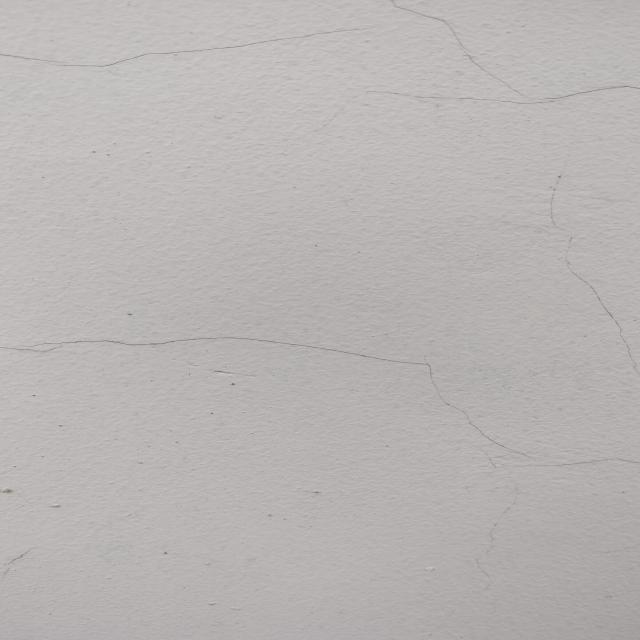Crack: (4, 332, 528, 461)
